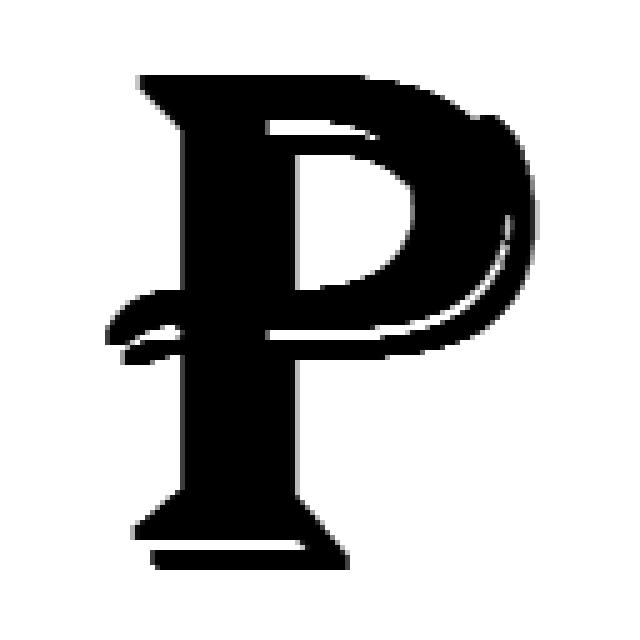P: (105, 75, 540, 575)
